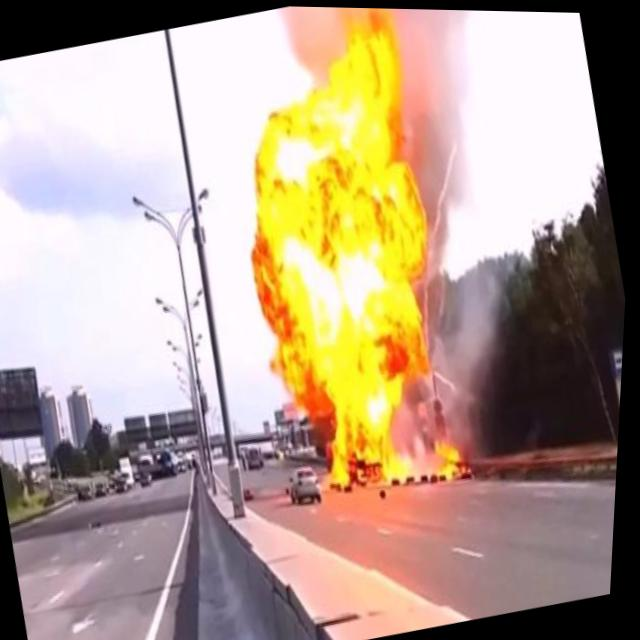fire: (194, 4, 508, 517)
